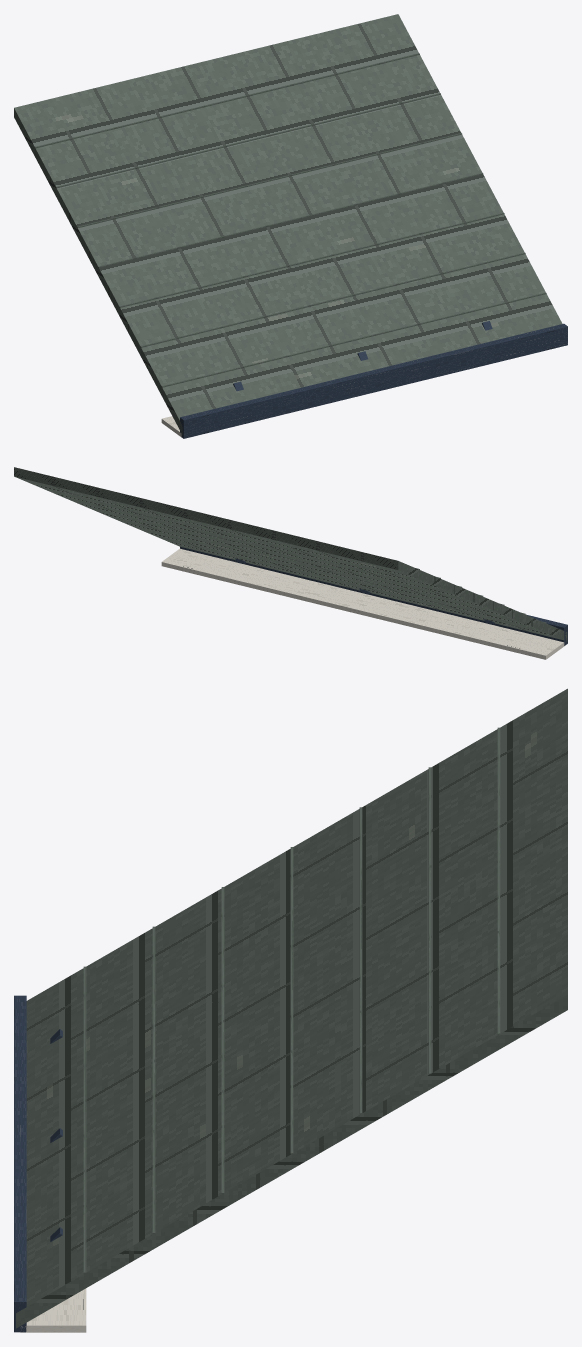
The model's file is house_05_roof_slope.glb.
3 views of the same model, one above another, from view 1: azimuth 30°, elevation 25°; view 2: azimuth 150°, elevation 25°; view 3: azimuth 270°, elevation 25° (orthographic). The views are drawn at different scales.
Parts seen in each view (by area): view 1: house_05_roof_slope; view 2: house_05_roof_slope; view 3: house_05_roof_slope.
Part boxes in pixels (x1,y1,x2,y2): house_05_roof_slope: (14, 14, 567, 438); house_05_roof_slope: (14, 467, 567, 659); house_05_roof_slope: (14, 688, 567, 1332).
Bounding box in the file's own units: 3.4 × 1.75 × 2.6.
Materials: 3 (3 with a texture image).
